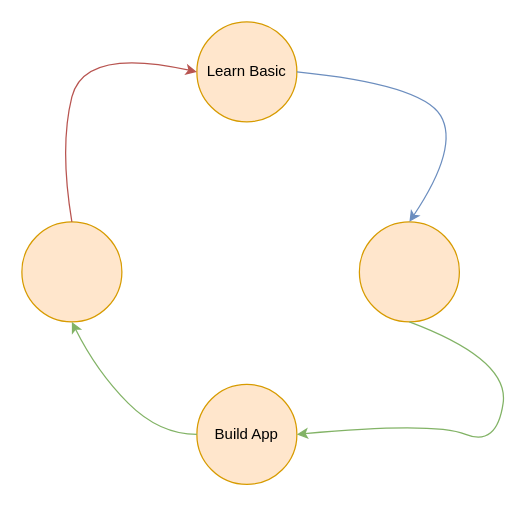
This 526x506 diagram has some shape labels left out. The shapes that lost their labels are listed below. From the top down, each one's box as (x1, y1, x2, y2) in pixels, then its label:
(21, 221, 122, 322): Stress
(358, 221, 459, 322): Learn Framework
